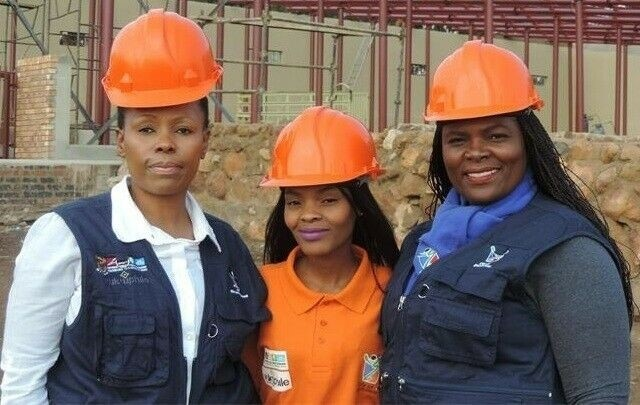face_no_mask: (116, 87, 213, 202), (434, 108, 531, 202), (280, 175, 363, 259)
